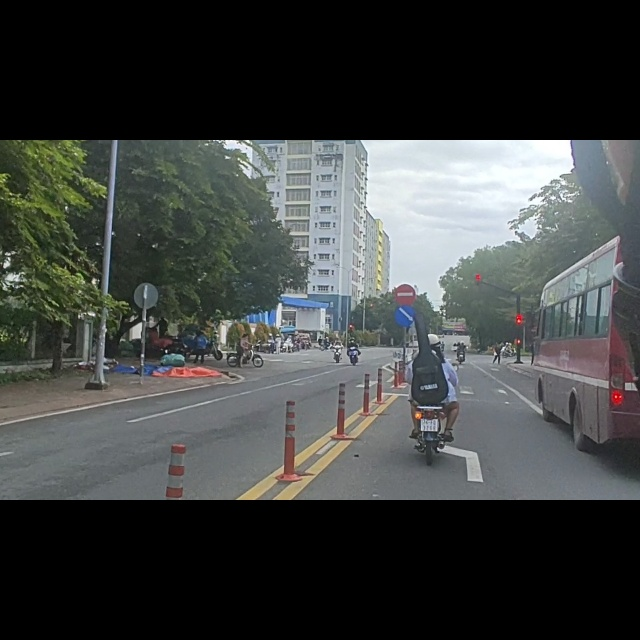bien_cam: (394, 293, 417, 329), (393, 257, 416, 290)
